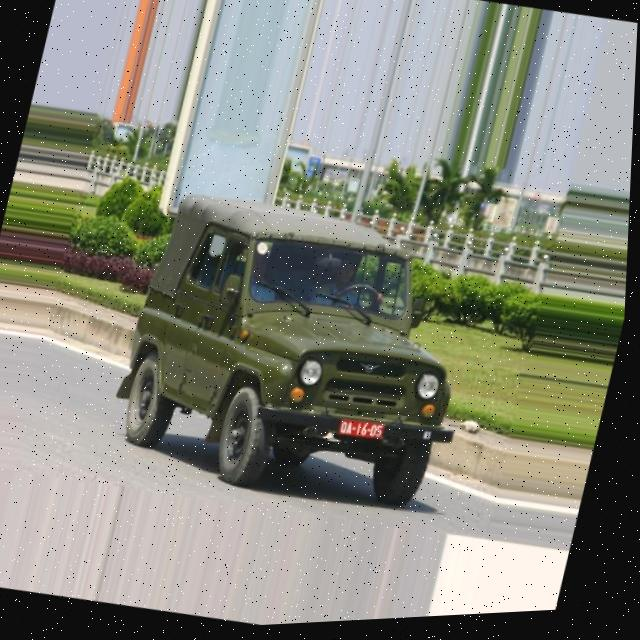car: (87, 163, 506, 537)
plate: (332, 411, 391, 447)
